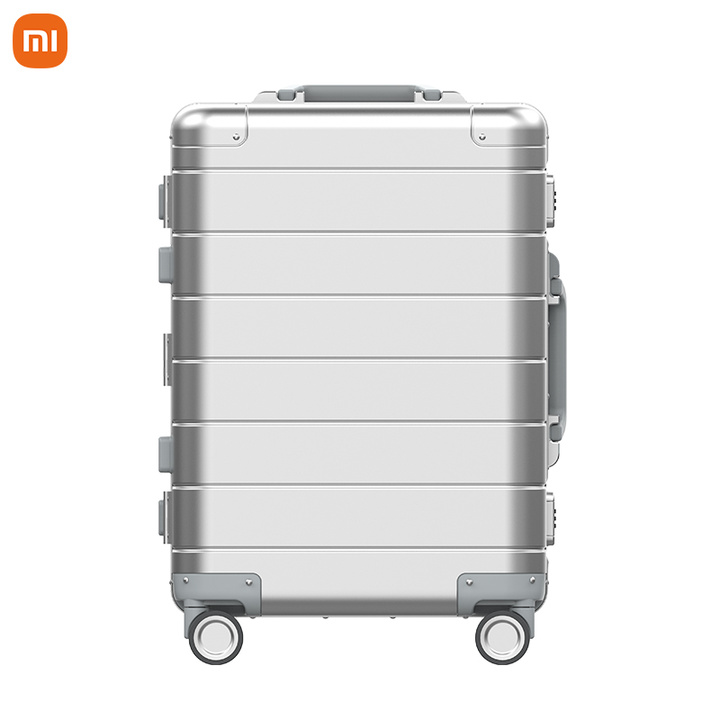box: (169, 103, 549, 620)
handle: (546, 252, 566, 474), (250, 84, 467, 103)
wheel: (187, 610, 244, 665), (474, 611, 531, 666)
